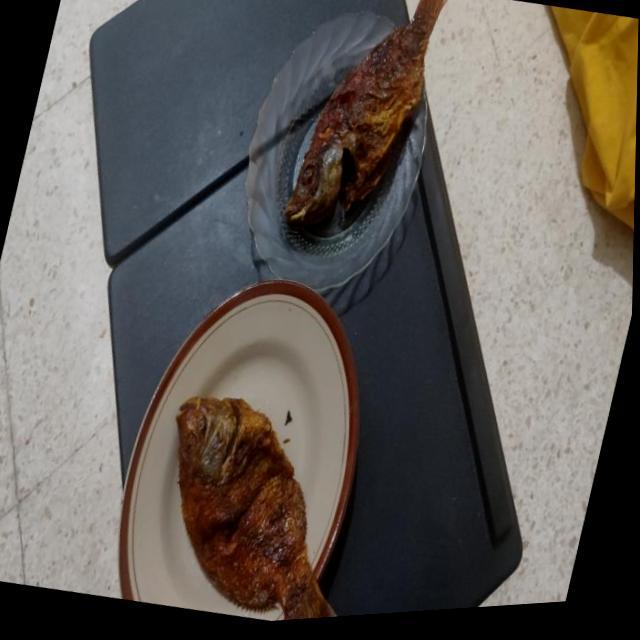ikan_mujair: (285, 0, 445, 226), (176, 397, 337, 620)
